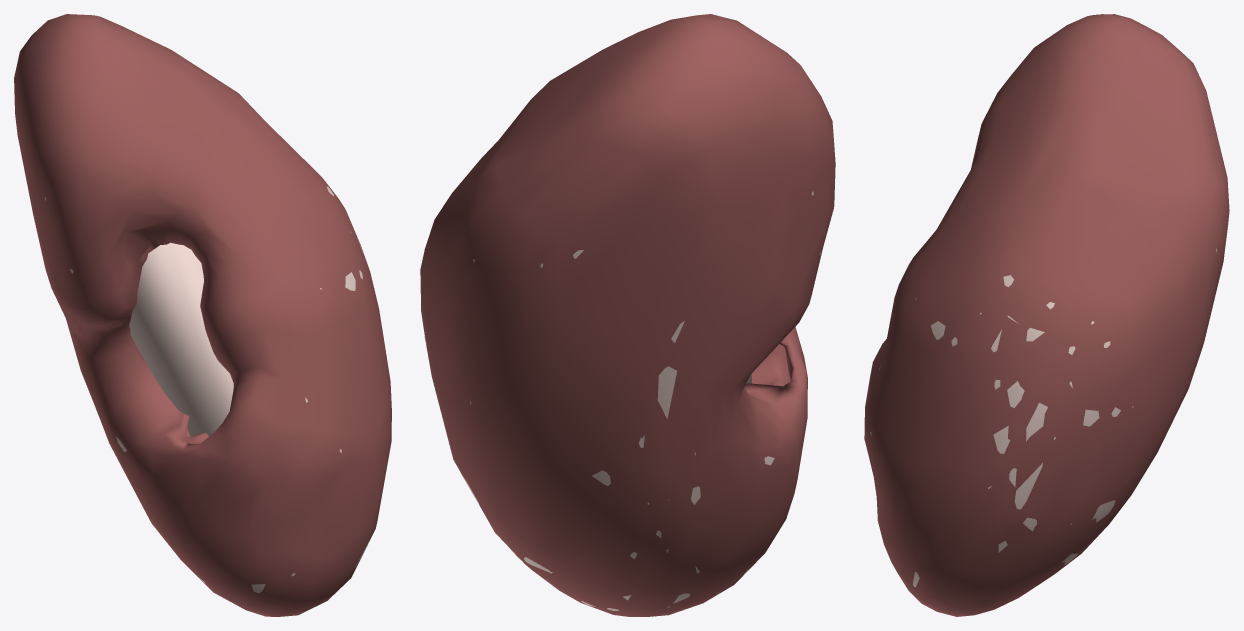
File: 3d-vh-f-kidney-l_lod_20.glb
3 renders of one model, left to right at view 1: azimuth 30°, elevation 25°; view 2: azimuth 150°, elevation 25°; view 3: azimuth 270°, elevation 25°, orthographic. The views are drawn at different scales.
Parts seen in each view (by area): view 1: VH_F_kidney_capsule_L, VH_F_renal_column_L, VH_F_outer_cortex_of_kidney_L; view 2: VH_F_kidney_capsule_L, VH_F_outer_cortex_of_kidney_L, VH_F_hilum_of_kidney_L; view 3: VH_F_kidney_capsule_L, VH_F_outer_cortex_of_kidney_L.
Part boxes in pixels (box(x1,y1,x2,y2)): VH_F_kidney_capsule_L: box(14, 14, 391, 616); VH_F_renal_column_L: box(129, 242, 233, 436); VH_F_outer_cortex_of_kidney_L: box(44, 186, 368, 592); VH_F_kidney_capsule_L: box(420, 14, 835, 616); VH_F_outer_cortex_of_kidney_L: box(424, 191, 820, 616); VH_F_hilum_of_kidney_L: box(752, 344, 790, 386); VH_F_kidney_capsule_L: box(864, 14, 1229, 616); VH_F_outer_cortex_of_kidney_L: box(870, 248, 1216, 587).
Size of the model in its own units: 0.0731 by 0.125 by 0.0775.
